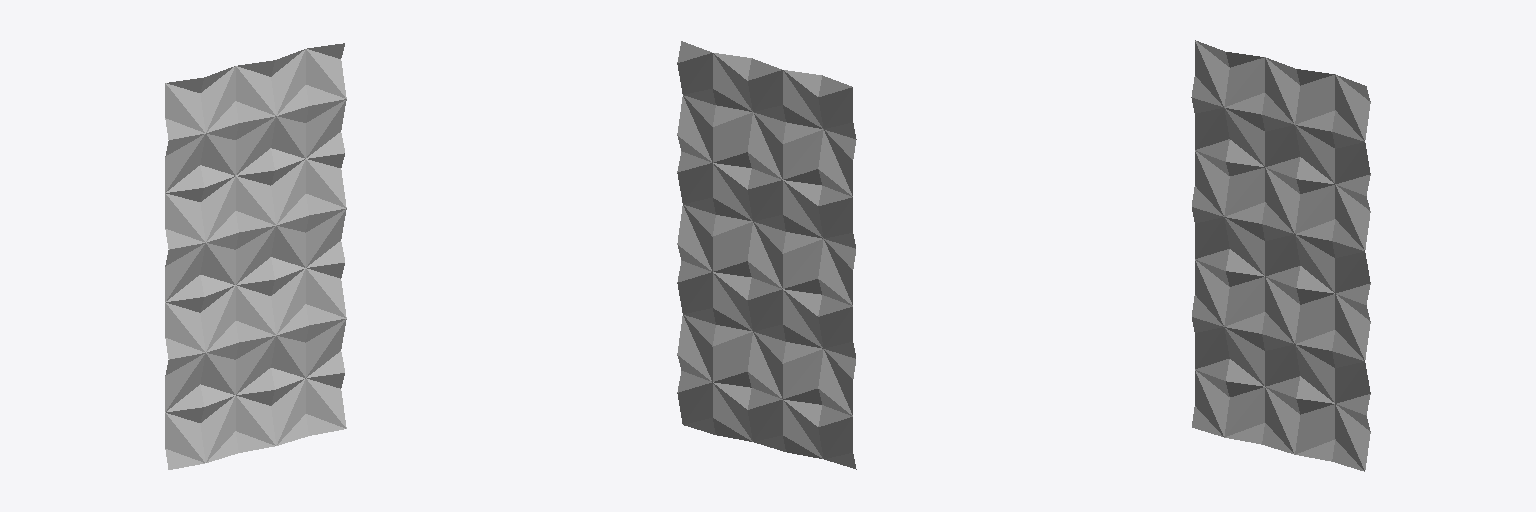
The model's file is surface_pattern_v02.obj.
The picture shows the model from 3 angles: view 1: azimuth 30°, elevation 25°; view 2: azimuth 150°, elevation 25°; view 3: azimuth 330°, elevation 25°; orthographic projection.
Parts seen in each view (by area): view 1: Plane_2; view 2: Plane_2; view 3: Plane_2.
Boxes of the visible parts, x1=… form: Plane_2: x1=165, y1=43, x2=346, y2=469; Plane_2: x1=677, y1=41, x2=856, y2=469; Plane_2: x1=1191, y1=40, x2=1370, y2=471.
Bounding box in the file's own units: 2907 × 6076 × 158.